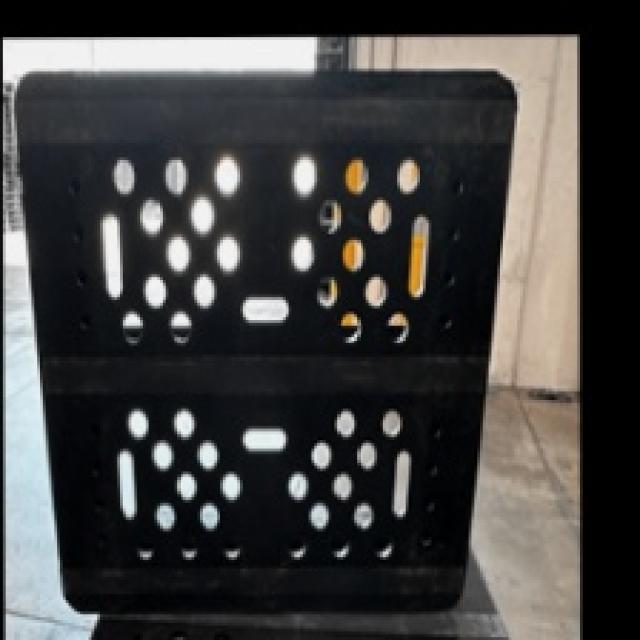igps: (9, 65, 525, 623)
